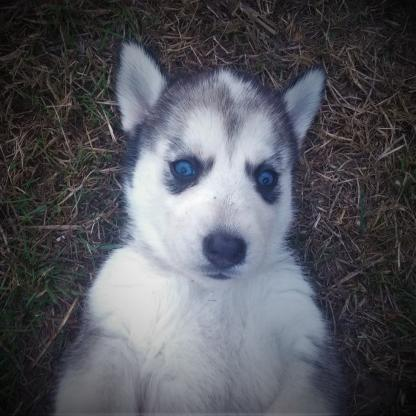husky: (54, 45, 336, 416)
